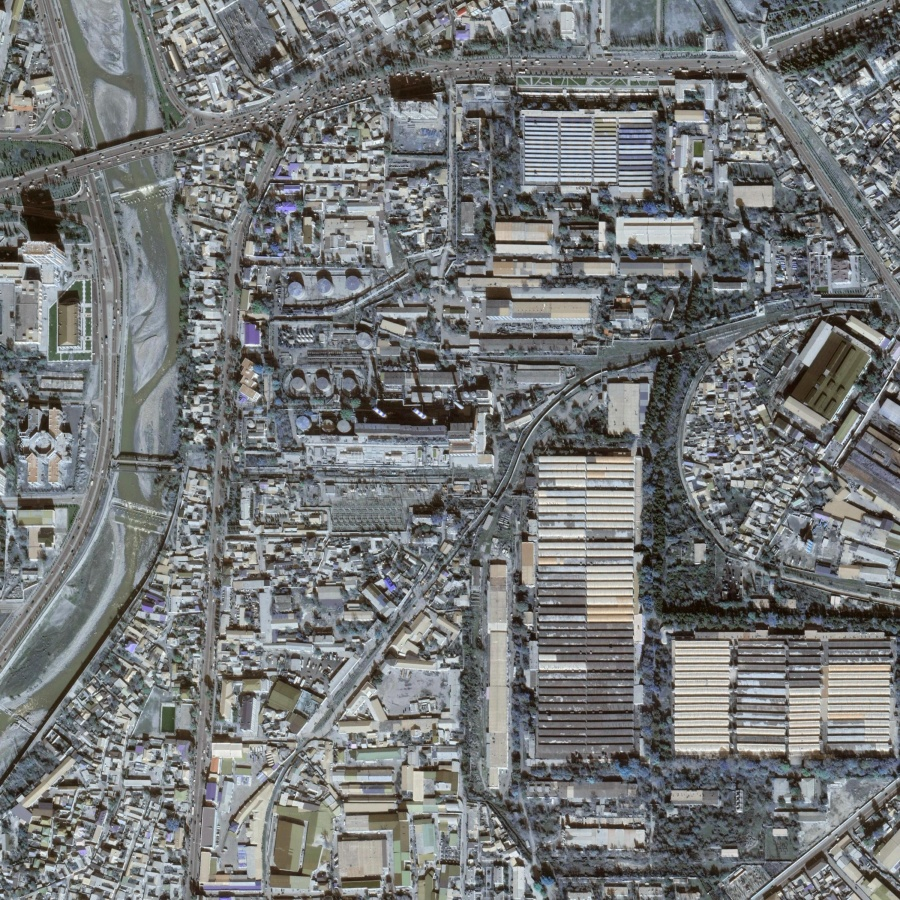PowerPlant: (278, 322, 499, 533)
